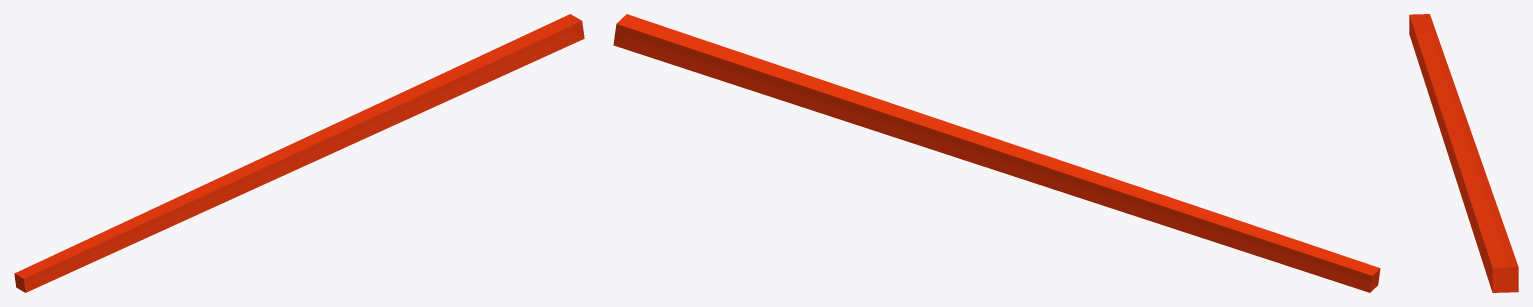
File: Event_421115418_EErechit_76.fbx
The picture shows the model from 3 angles, left to right: view 1: azimuth 30°, elevation 25°; view 2: azimuth 150°, elevation 25°; view 3: azimuth 270°, elevation 25°; orthographic projection. The views are drawn at different scales.
Parts seen in each view (by area): view 1: Model; view 2: Model; view 3: Model.
Part boxes in pixels (<box>): Model: <box>14,14,584,292</box>; Model: <box>613,14,1380,292</box>; Model: <box>1409,14,1518,292</box>.
Size of the model in its own units: 3.07 by 0.5172 by 0.3835.
